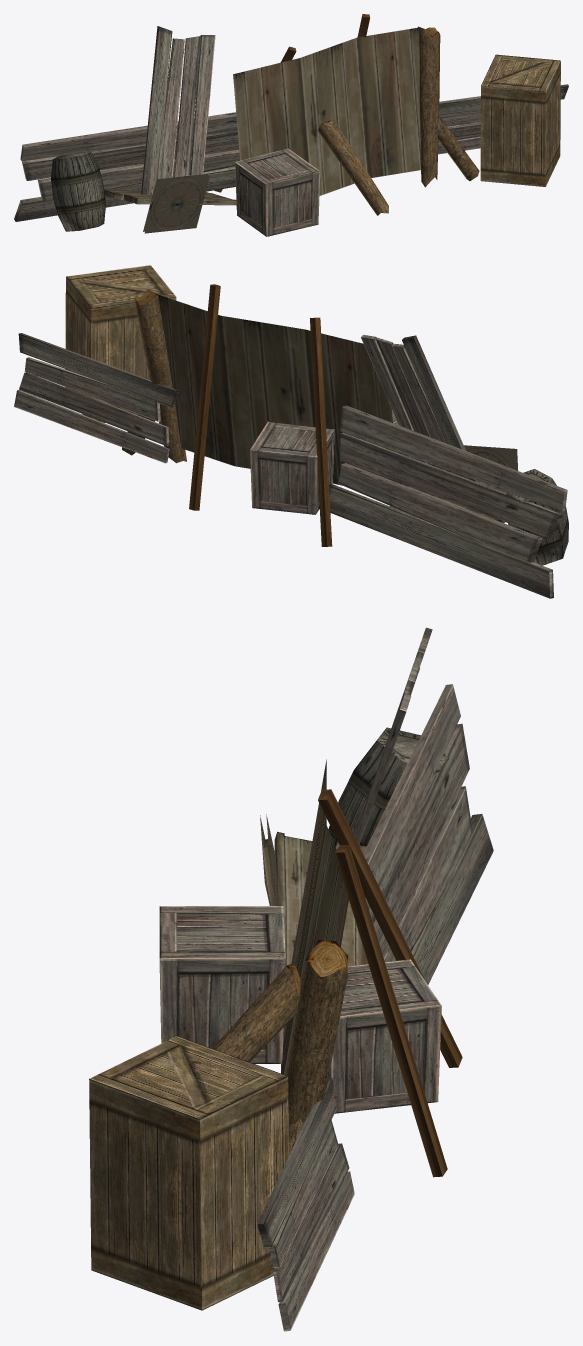
The model's file is pir_m_prp_inv_barricade_04.fbx.
3 views of the same model, one above another, from view 1: azimuth 30°, elevation 25°; view 2: azimuth 150°, elevation 25°; view 3: azimuth 270°, elevation 25° (orthographic). The views are drawn at different scales.
Visible parts, largest first — view 1: pPlane2, Top, polySurface1, barrel, crate, pPlane1, polycombine, plank_116, spokes2, plank_112, plank_118, plank_113 (+12 smaller); view 2: pPlane2, crate, plank_119, plank_118, plank_116, plank_117, pPlane1, polySurface404, plank_60, plank_61, polycombine, plank_67 (+10 smaller); view 3: crate, polySurface404, polySurface1, polycombine, top, plank_116, lod_high1, plank_118, pPlane2, plank_119, plank_117, barrel (+10 smaller).
Part boxes in pixels (x1,y1,x2,y2): pPlane2: (233, 27, 420, 195); Top: (480, 85, 546, 186); polySurface1: (235, 162, 320, 236); barrel: (50, 151, 105, 231); crate: (481, 54, 560, 186); pPlane1: (234, 28, 417, 172); polycombine: (418, 26, 440, 187); plank_116: (20, 112, 237, 161); spokes2: (144, 175, 209, 233); plank_112: (141, 26, 172, 194); plank_118: (22, 131, 238, 180); plank_113: (174, 36, 201, 177); pPlane2: (156, 294, 398, 485); crate: (65, 265, 176, 422); plank_119: (318, 483, 553, 598); plank_118: (340, 432, 563, 538); plank_116: (339, 405, 567, 511); plank_117: (338, 463, 542, 562); pPlane1: (159, 296, 395, 483); polySurface404: (250, 430, 334, 514); plank_60: (18, 333, 179, 407); plank_61: (19, 372, 169, 446); polycombine: (134, 290, 186, 463); plank_67: (14, 390, 169, 463); crate: (89, 1036, 288, 1310); polySurface404: (328, 1006, 441, 1113); polySurface1: (159, 959, 285, 1063); polycombine: (286, 940, 347, 1123); top: (159, 906, 285, 959); plank_116: (363, 684, 460, 914); lod_high1: (335, 845, 447, 1177); plank_118: (370, 723, 469, 954); pPlane2: (281, 759, 348, 1075); plank_119: (411, 814, 493, 984); plank_117: (383, 786, 472, 962); barrel: (328, 727, 448, 846).
Bounding box in the file's own units: 5042 × 1857 × 1771.
Materials: 2 (2 with a texture image).
